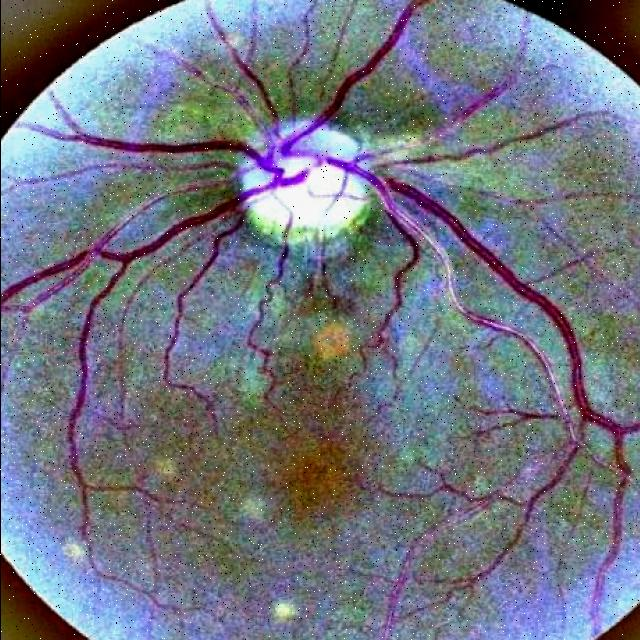Macula: (281, 440, 349, 519)
Optic Disk: (232, 115, 374, 245)
